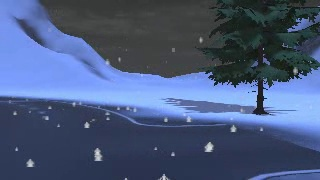Lane: (1, 96, 319, 179)
